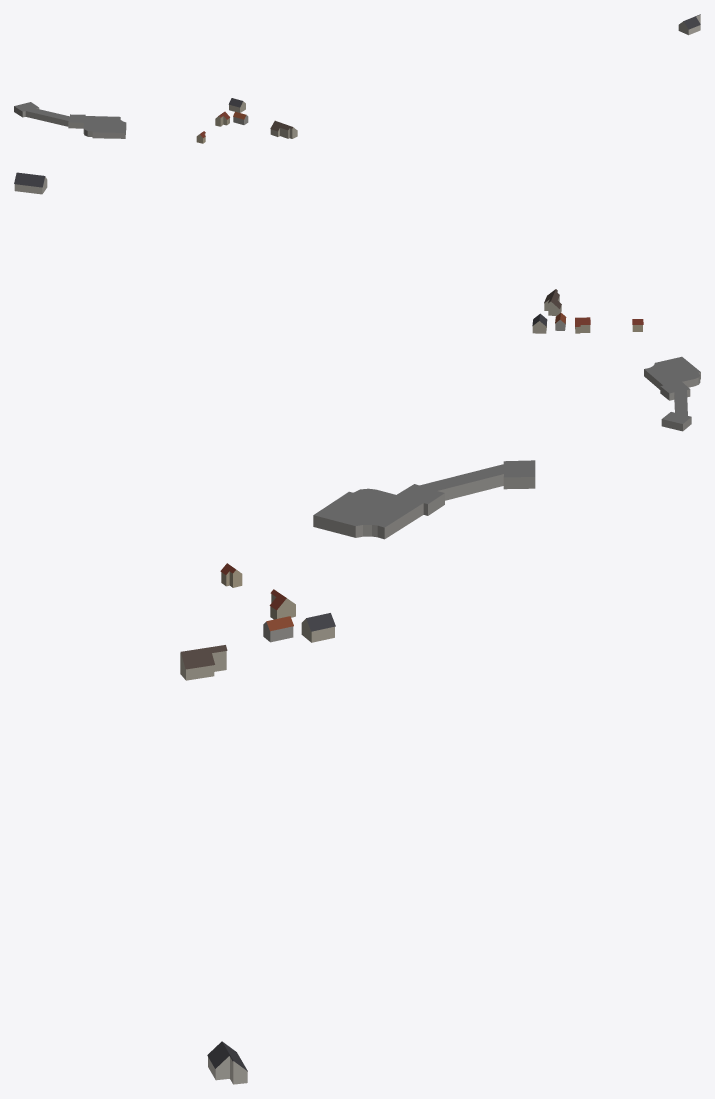
3 renders of one model, top to bottom at view 1: azimuth 30°, elevation 25°; view 2: azimuth 150°, elevation 25°; view 3: azimuth 270°, elevation 25°, orthographic. The views are drawn at different scales.
Visible parts, largest first — view 1: buildings; view 2: buildings; view 3: buildings.
Part boxes in pixels (box(x1,y1,x2,y2)): buildings: box(14, 14, 700, 143); buildings: box(14, 172, 700, 431); buildings: box(180, 460, 535, 1084).
Size of the model in its own units: 651 by 19.75 by 164.
